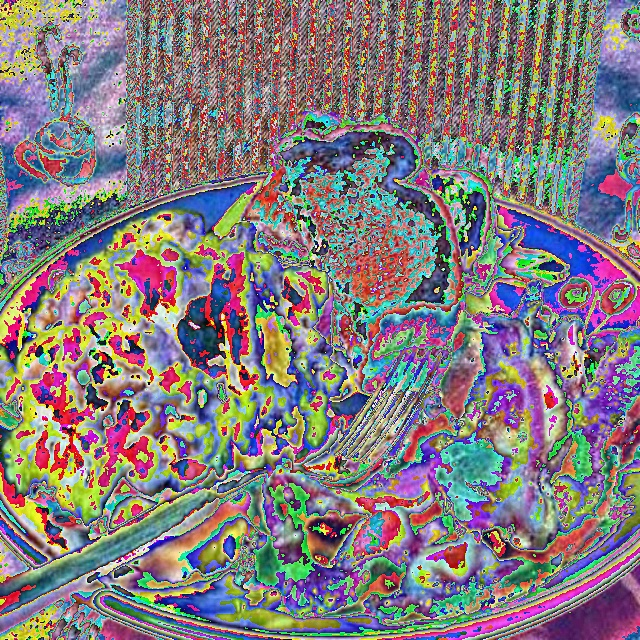background: (0, 109, 640, 623)
